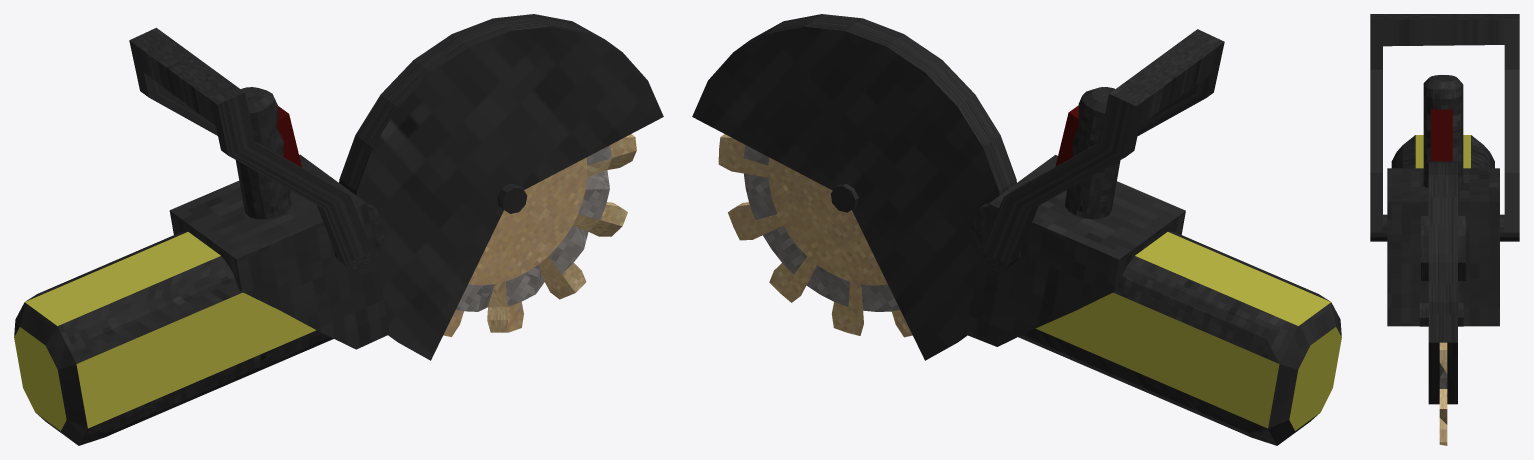
Rendered from Rock saw.fbx.
The picture shows the model from 3 angles, left to right: view 1: azimuth 30°, elevation 25°; view 2: azimuth 150°, elevation 25°; view 3: azimuth 270°, elevation 25°; orthographic projection. The views are drawn at different scales.
Parts seen in each view (by area): view 1: Cylinder.001, Cube, Cube.001, Gear; view 2: Cylinder.001, Cube, Cube.001, Gear; view 3: Cube.001, Cylinder.001, Cube, Cylinder, Gear.
Boxes of the visible parts, x1,y1,x2,y2 form: Cylinder.001: [339, 14, 663, 360]; Cube: [14, 231, 333, 445]; Cube.001: [129, 27, 389, 349]; Gear: [443, 134, 636, 336]; Cylinder.001: [692, 14, 1016, 360]; Cube: [1018, 231, 1341, 445]; Cube.001: [965, 29, 1224, 346]; Gear: [718, 134, 912, 337]; Cube.001: [1370, 14, 1519, 326]; Cylinder.001: [1419, 161, 1463, 404]; Cube: [1391, 135, 1494, 168]; Cylinder: [1421, 216, 1465, 280]; Gear: [1439, 342, 1447, 445].
Size of the model in its own units: 429 by 229 by 105.
5 materials, 3 textured.
